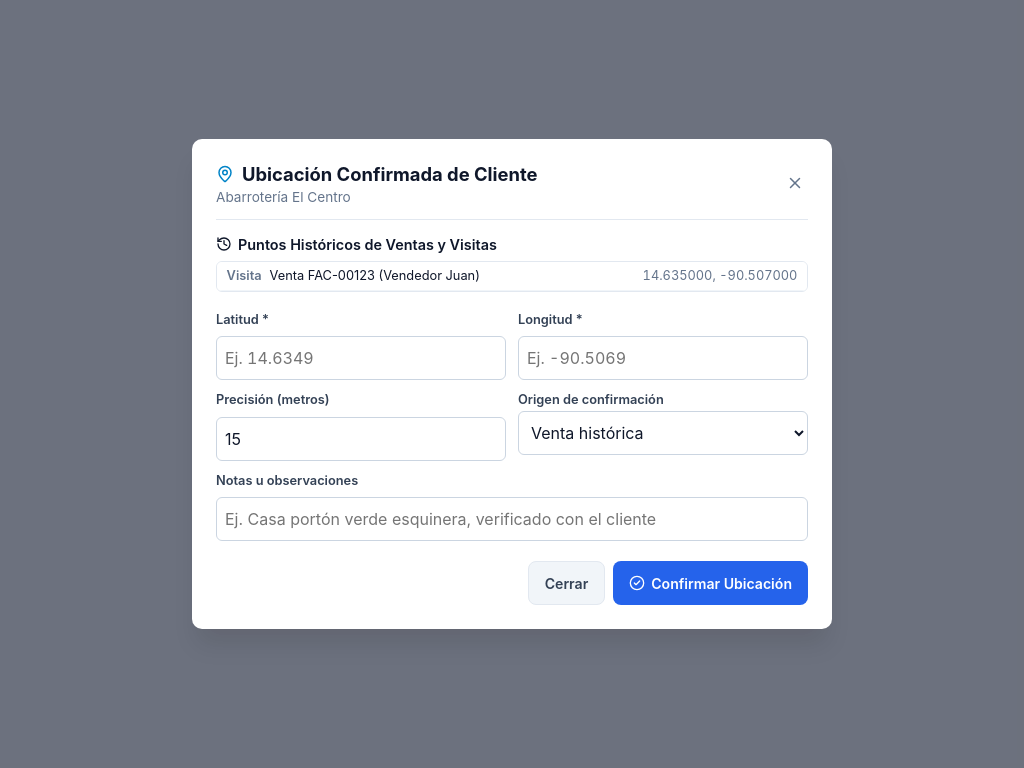
Test: CustomerLocationModal › permite hacer clic en un punto del historial para rellenar el formulario de confirmación
Click the text "Venta FAC-00123 (Vendedor Juan)": coordinates (375, 276) top-left (270, 268), bottom-right (480, 283)
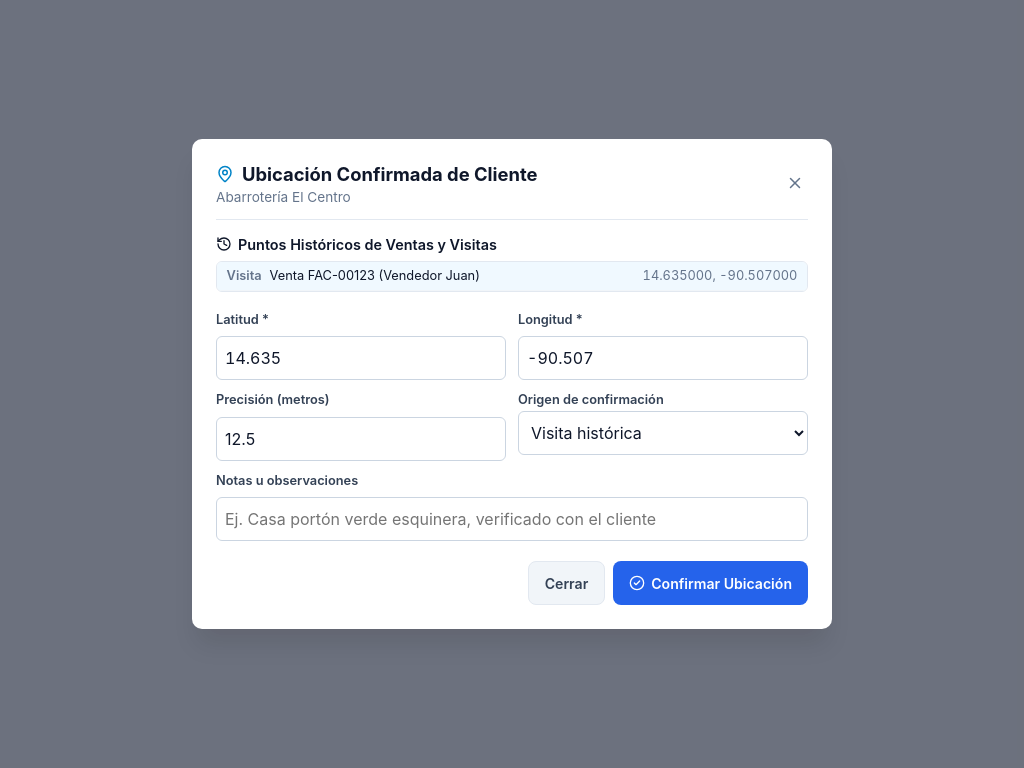
Check: the number field with placeholder "Ej. 14.6349" below "Latitud *" holds "14.635", box top-left (216, 336), bottom-right (506, 380)
Check: the number field with placeholder "Ej. -90.5069" below "Longitud *" holds "-90.507", box top-left (518, 336), bottom-right (808, 380)
